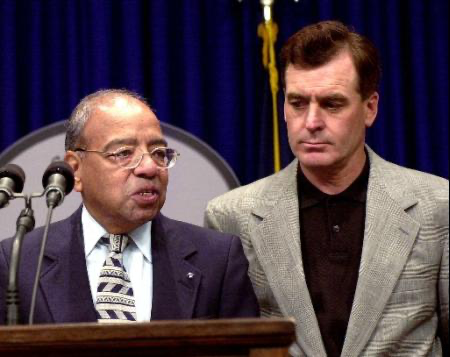Face: (77, 100, 176, 229), (282, 65, 370, 172)
